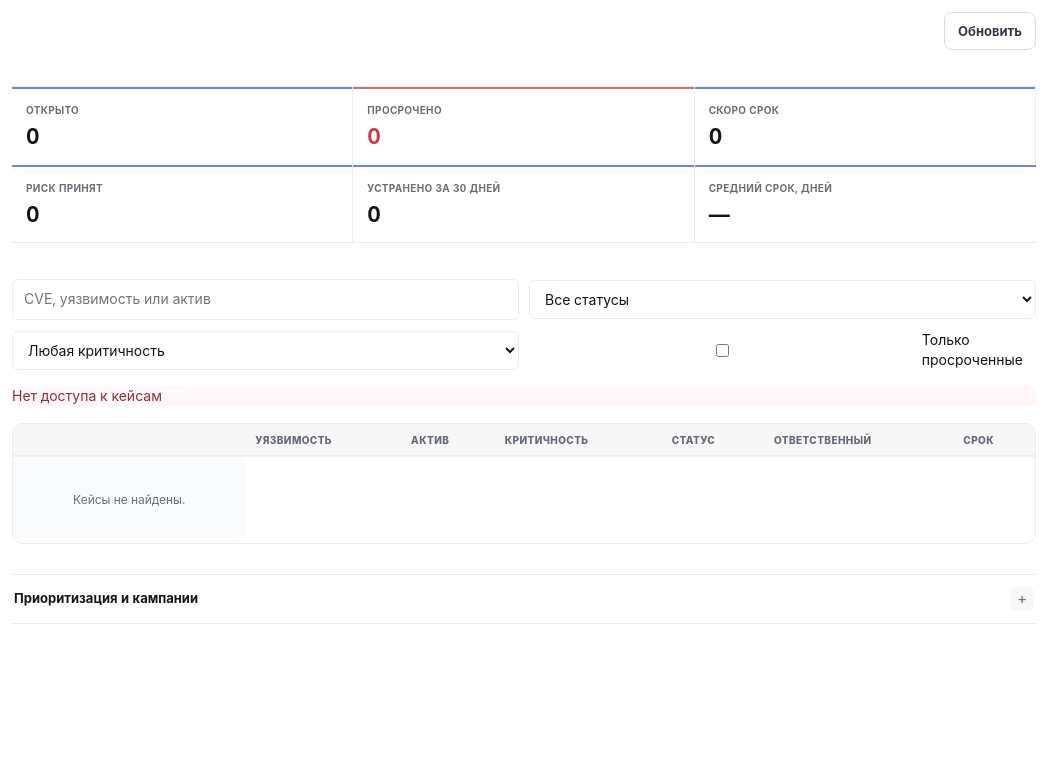
Test case: remediation workflows › shows list failures and recovers without losing the page
The image size is (1048, 780).
Expected: the text "Нет доступа к кейсам" is shown, [12, 386, 1036, 407]
Click the button "Обновить" at x=990, y=31, box [944, 12, 1036, 50]
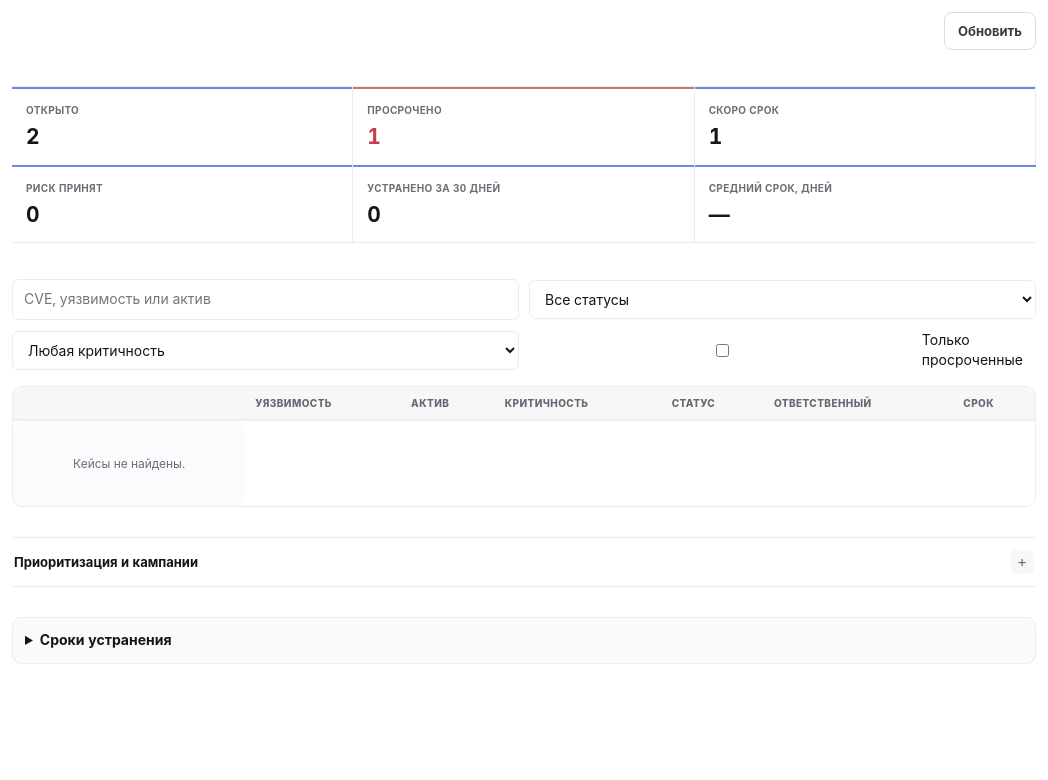
Expected: the text "Кейсы не найдены." is shown, [13, 421, 245, 506]
Expected: the text "Нет доступа к кейсам" is gone
